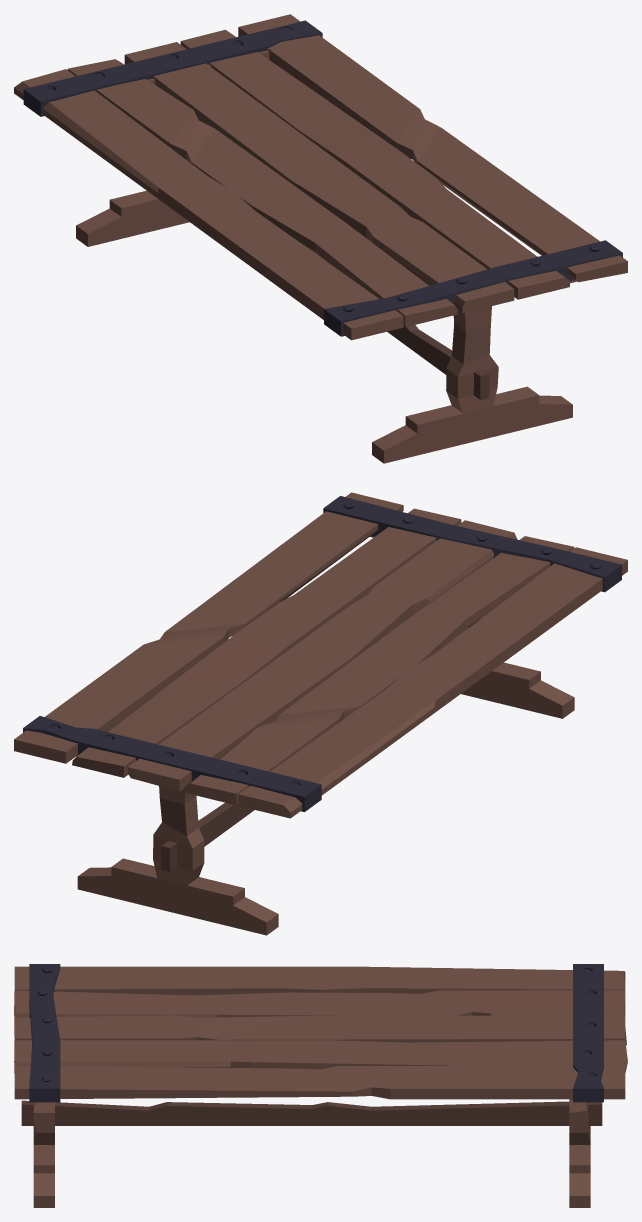
Rendered from Table_Big.glb.
The picture shows the model from 3 angles, top to bottom: view 1: azimuth 30°, elevation 25°; view 2: azimuth 150°, elevation 25°; view 3: azimuth 270°, elevation 25°; orthographic projection. The views are drawn at different scales.
Visible parts, largest first — view 1: Table_Big; view 2: Table_Big; view 3: Table_Big.
Boxes of the visible parts, <box> form: Table_Big: <box>14,14,627,463</box>; Table_Big: <box>14,492,627,935</box>; Table_Big: <box>14,964,627,1207</box>.
Size of the model in its own units: 0.7919 by 0.4268 by 1.65.
